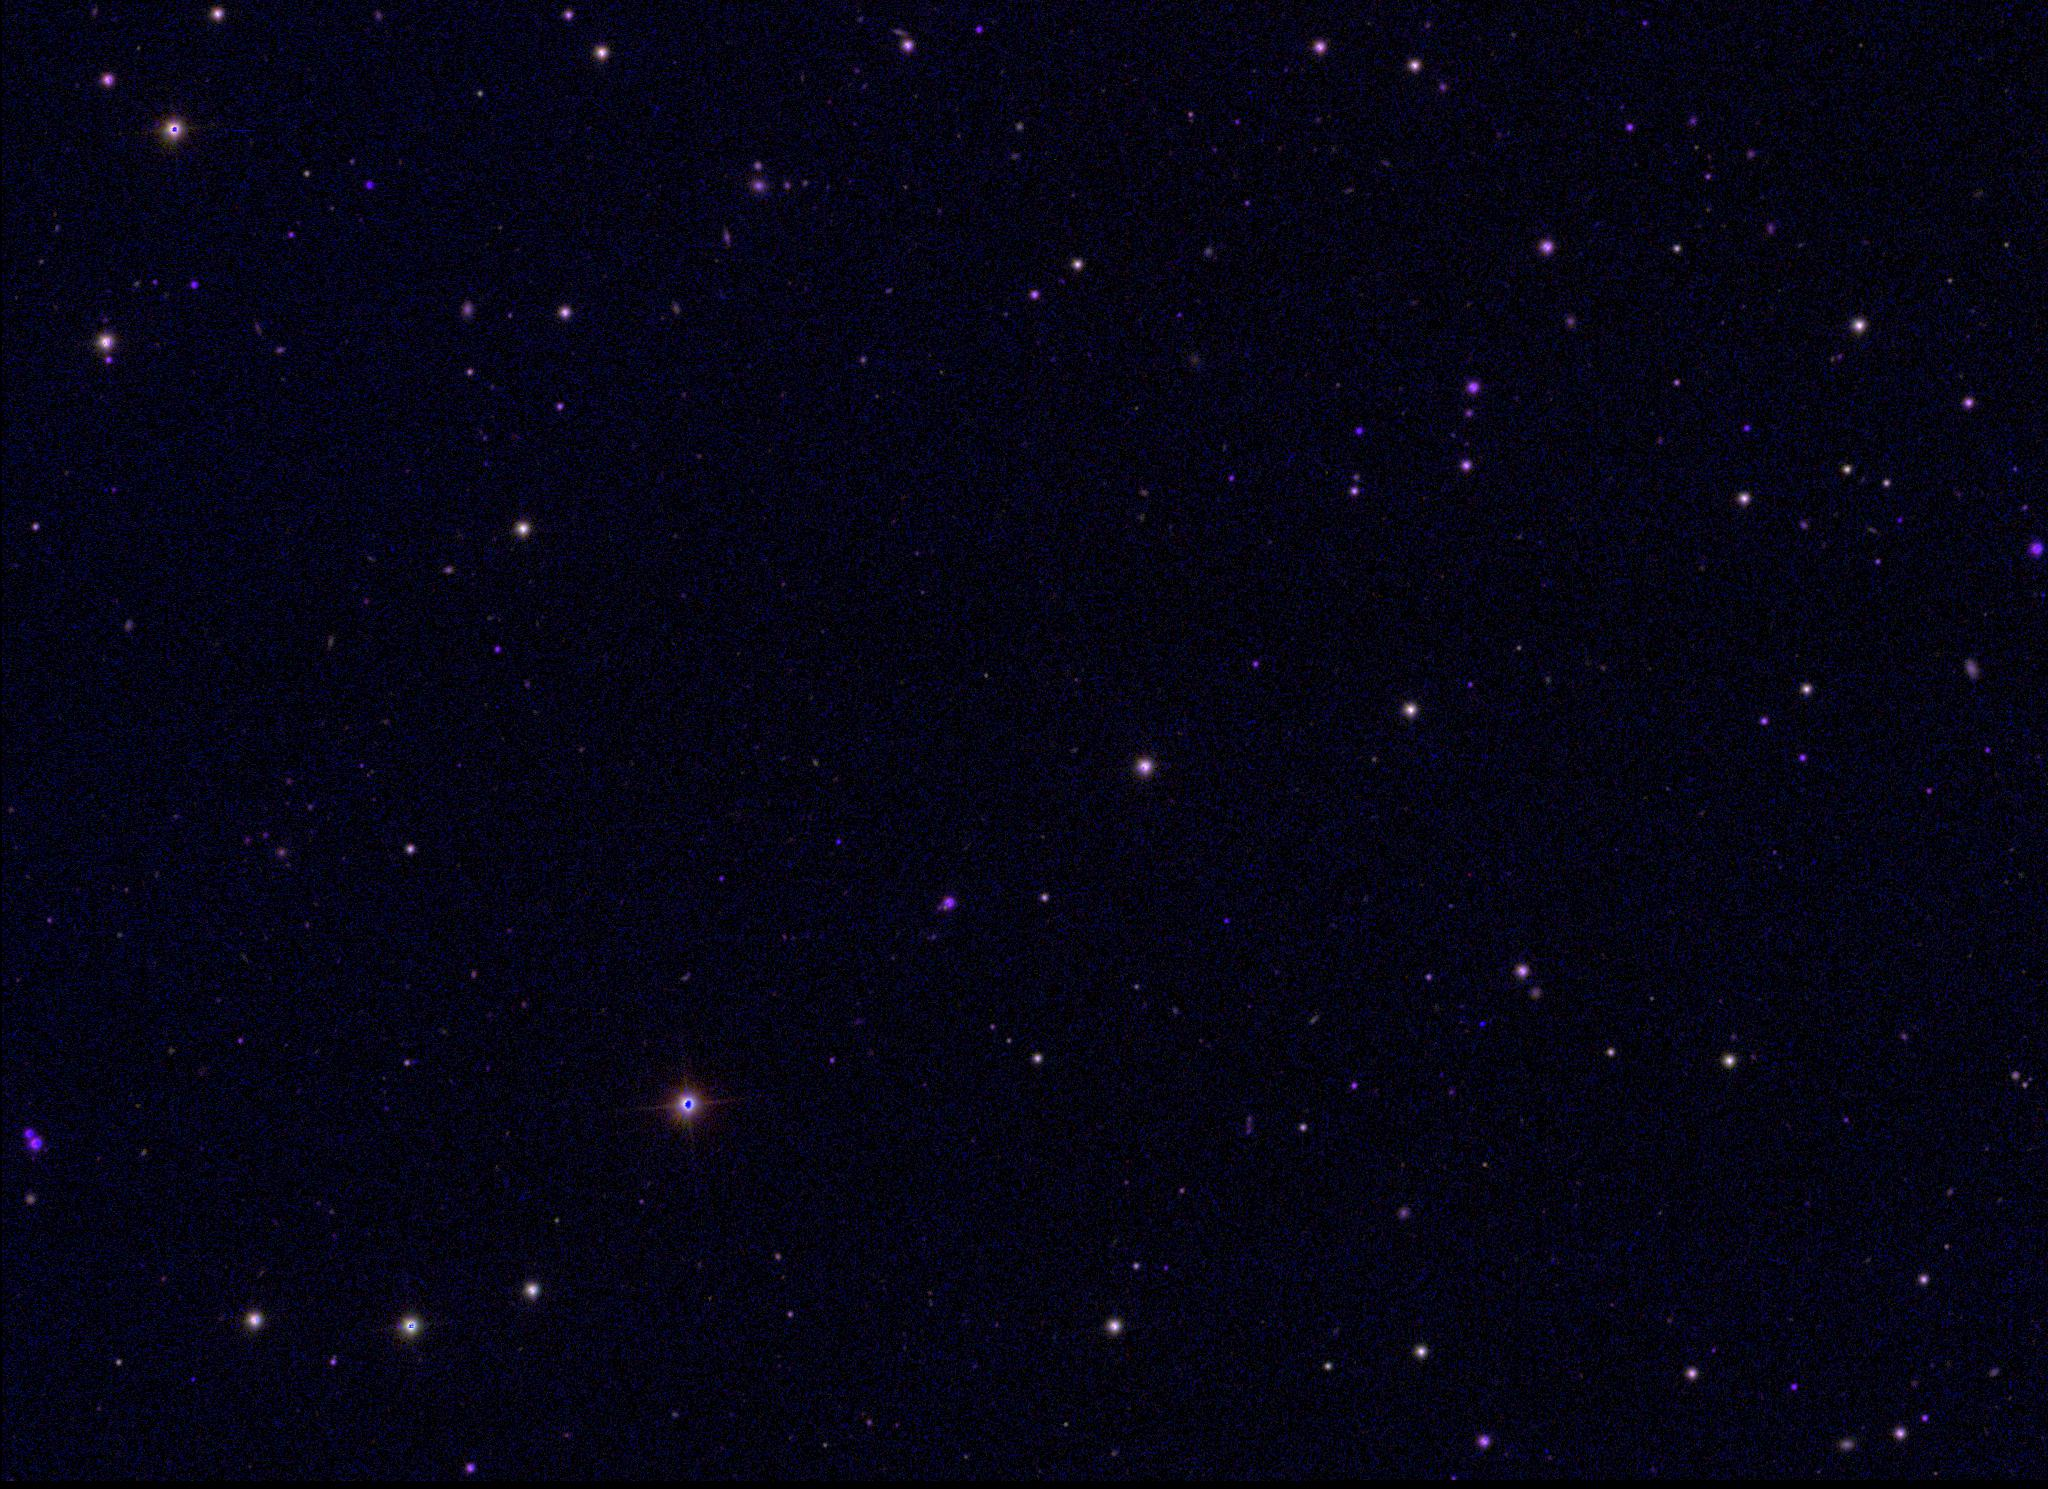L: (1472, 1017, 1487, 1031)
